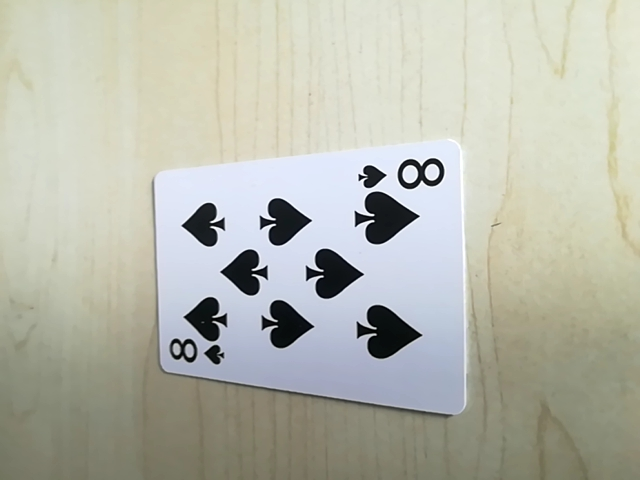ht 8: (355, 151, 453, 194), (161, 335, 228, 371)
